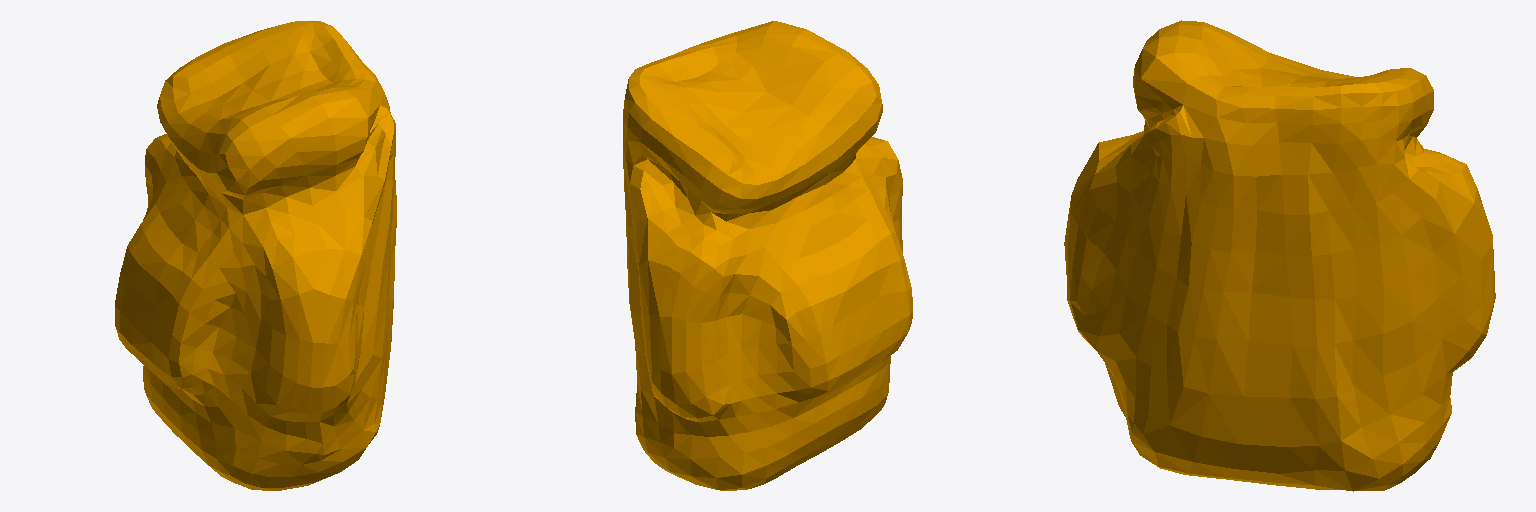
The robot description file, URDF, robot "mesh_object":
<robot name="mesh_object">
            <link name="base">
                <visual>
                    <geometry>
                        <mesh filename="backpack_2.obj" scale="1 1 1" />
                    </geometry>
                </visual>
                <collision>
                    <geometry>
                        <mesh filename="backpack_2.obj" scale="1 1 1" />
                    </geometry>
                </collision>
                <inertial>
                    <origin xyz="0.000000 0.000000 0.056617" rpy="0 0 0" />
                    <mass value="0.5" />
                    <inertia ixx="0.01" iyy="0.01" izz="0.01" ixy="0" ixz="0" iyz="0" />
                </inertial>
            </link>
            </robot>

--- What the picture shows (computed from the rendered views, not written in the file) ---
Views: 3 orthographic renders of the robot side by side, from view 1: azimuth 30°, elevation 25°; view 2: azimuth 150°, elevation 25°; view 3: azimuth 270°, elevation 25°.
Robot: mesh_object — 1 links, 0 joints (none); root link base; default pose: all joints at 0.
Visible links, largest first — view 1: base; view 2: base; view 3: base.
Boxes of the visible links, box(x1,y1,x2,y2) form: base: box(115, 21, 396, 490); base: box(623, 21, 912, 490); base: box(1064, 20, 1495, 491).
Size in the robot's own frame: 0.0697 by 0.0999 by 0.1132 metres.
1 mesh visuals loaded from 1 distinct referenced files (1 OBJ).
